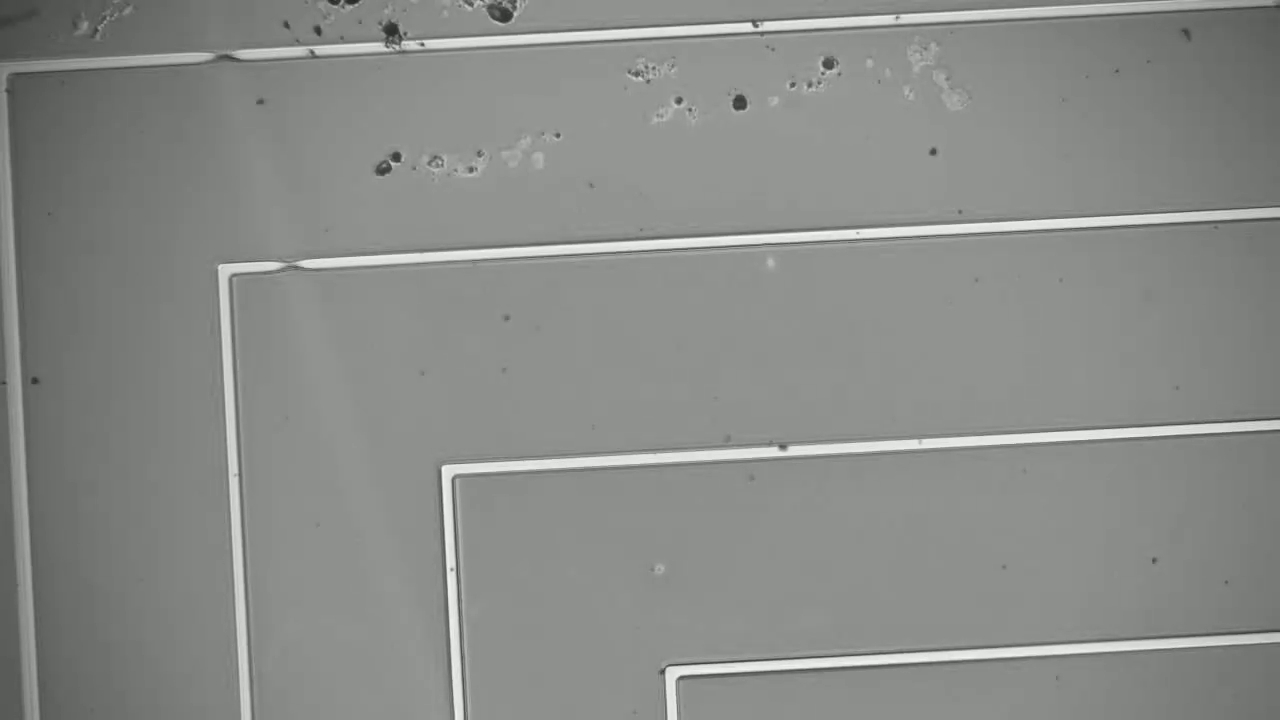edge_bite: (202, 40, 250, 71), (268, 249, 311, 279)
stains_enbedded: (745, 11, 778, 42)
